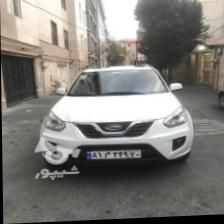plate: (85, 150, 141, 161)
